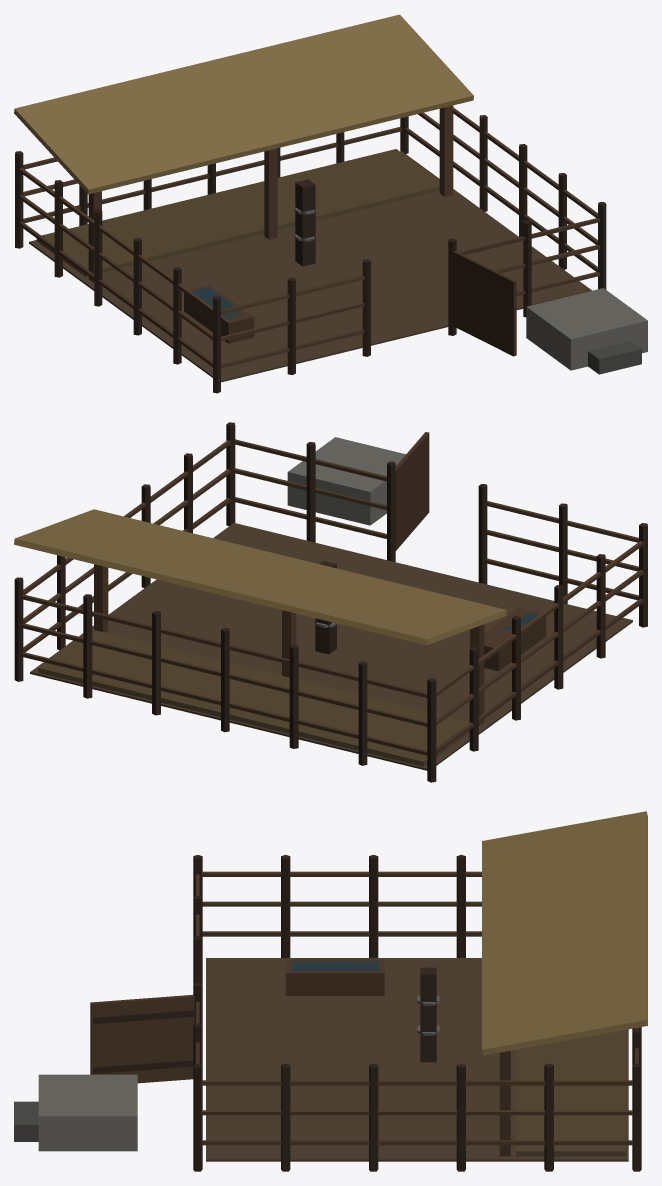
File: walk_any_pen.glb
3 views of the same model, one above another, from view 1: azimuth 30°, elevation 25°; view 2: azimuth 150°, elevation 25°; view 3: azimuth 270°, elevation 25° (orthographic). The views are drawn at different scales.
Parts seen in each view (by area): view 1: walk_any_pen, walk_any_pen_roof, walk_any_pen_door0; view 2: walk_any_pen, walk_any_pen_roof, walk_any_pen_door0; view 3: walk_any_pen, walk_any_pen_roof, walk_any_pen_door0.
Part boxes in pixels (bbox=[...]): walk_any_pen: bbox=[15, 105, 647, 393]; walk_any_pen_roof: bbox=[14, 14, 473, 194]; walk_any_pen_door0: bbox=[453, 250, 516, 356]; walk_any_pen: bbox=[14, 422, 647, 782]; walk_any_pen_roof: bbox=[14, 509, 506, 645]; walk_any_pen_door0: bbox=[395, 432, 429, 550]; walk_any_pen: bbox=[14, 854, 641, 1171]; walk_any_pen_roof: bbox=[482, 811, 647, 1055]; walk_any_pen_door0: bbox=[90, 995, 195, 1083].
Size of what is drawn, in the model's own units: 9.16 by 3.02 by 11.55.
2 materials, 2 textured.
